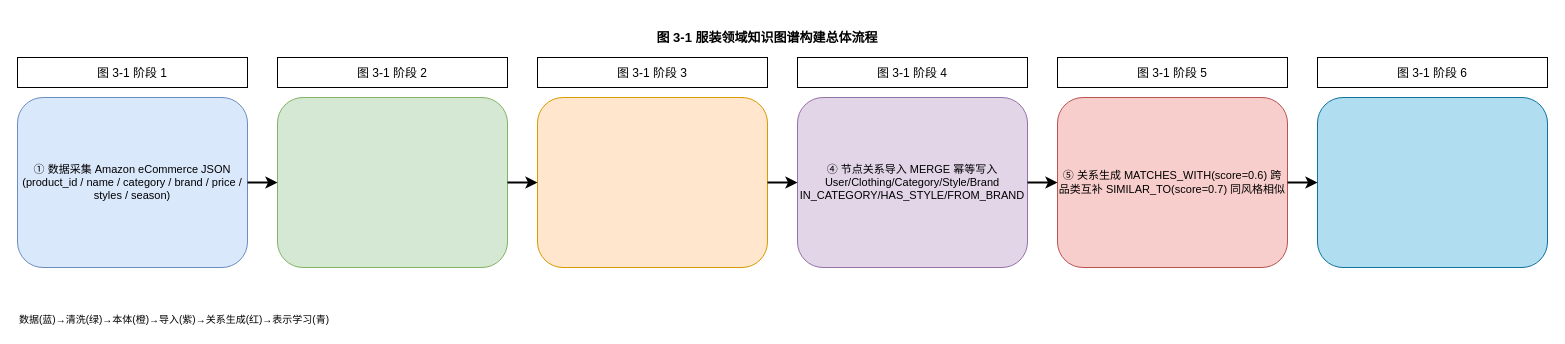
Some shapes in this 1565 by 344 pixel diagram are drawn without their labels. The centre of each missing label's shape, as x and y in pixels:
"② 规范化清洗 clean_category() clean_style() clean_season() (非法值→默认枚举)" goes at (392,182).
"③ 本体映射 字段 → 节点标签与关系 (Category/Style/Brand 等本体映射)" goes at (652,182).
"⑥ 表示学习 TransE 离线嵌入 (h+r≈t, dim=100) 实体/关系向量" goes at (1432,182).
